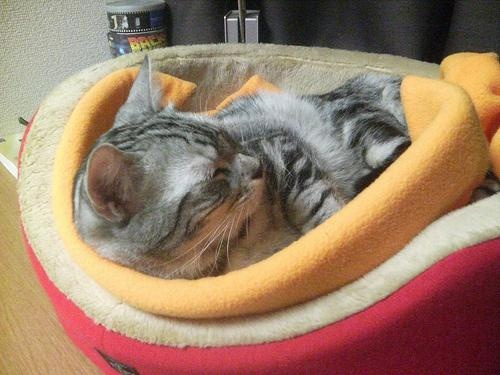cat: (77, 53, 415, 280)
